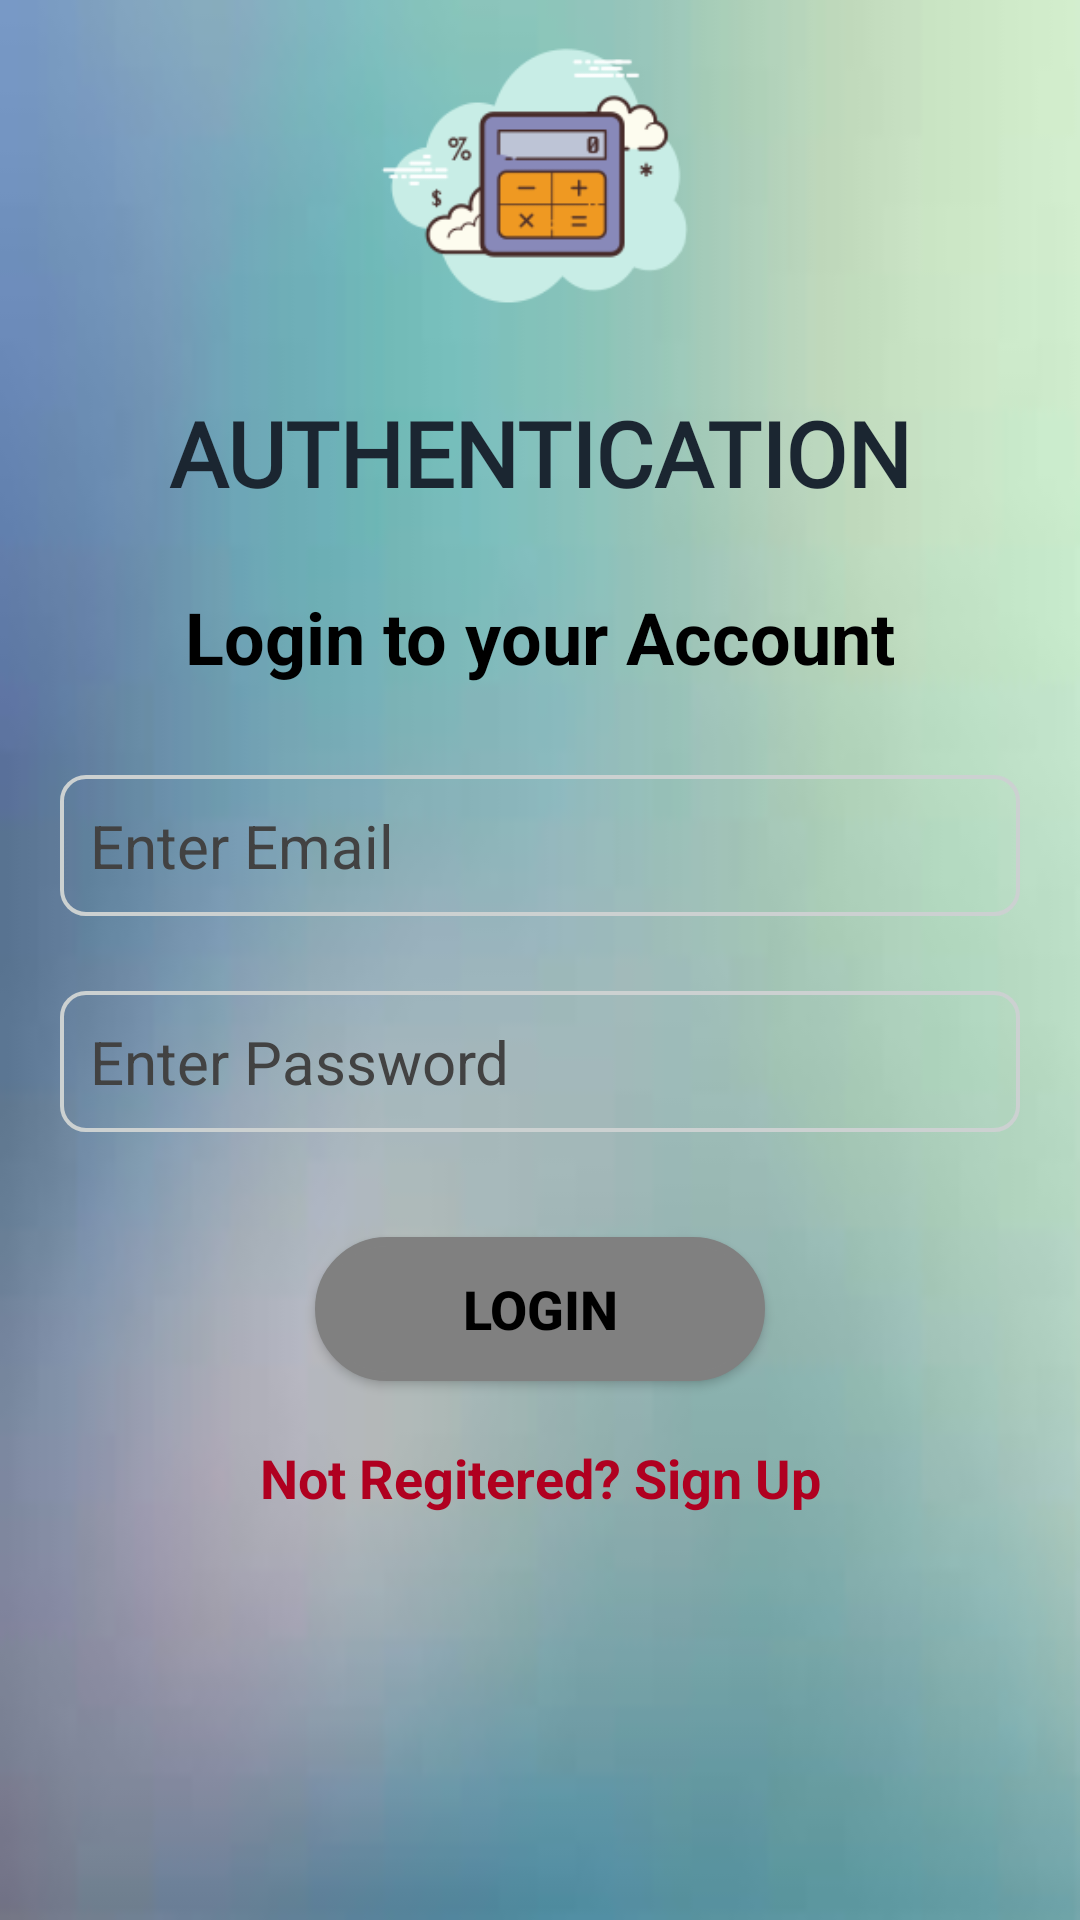

Icon click points for this 1080px x 1920px phone screenshot, format point (x, y):
calcapp: point (540, 180)
